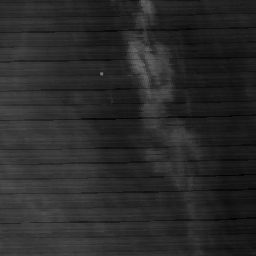Target: (99, 71, 105, 77)
